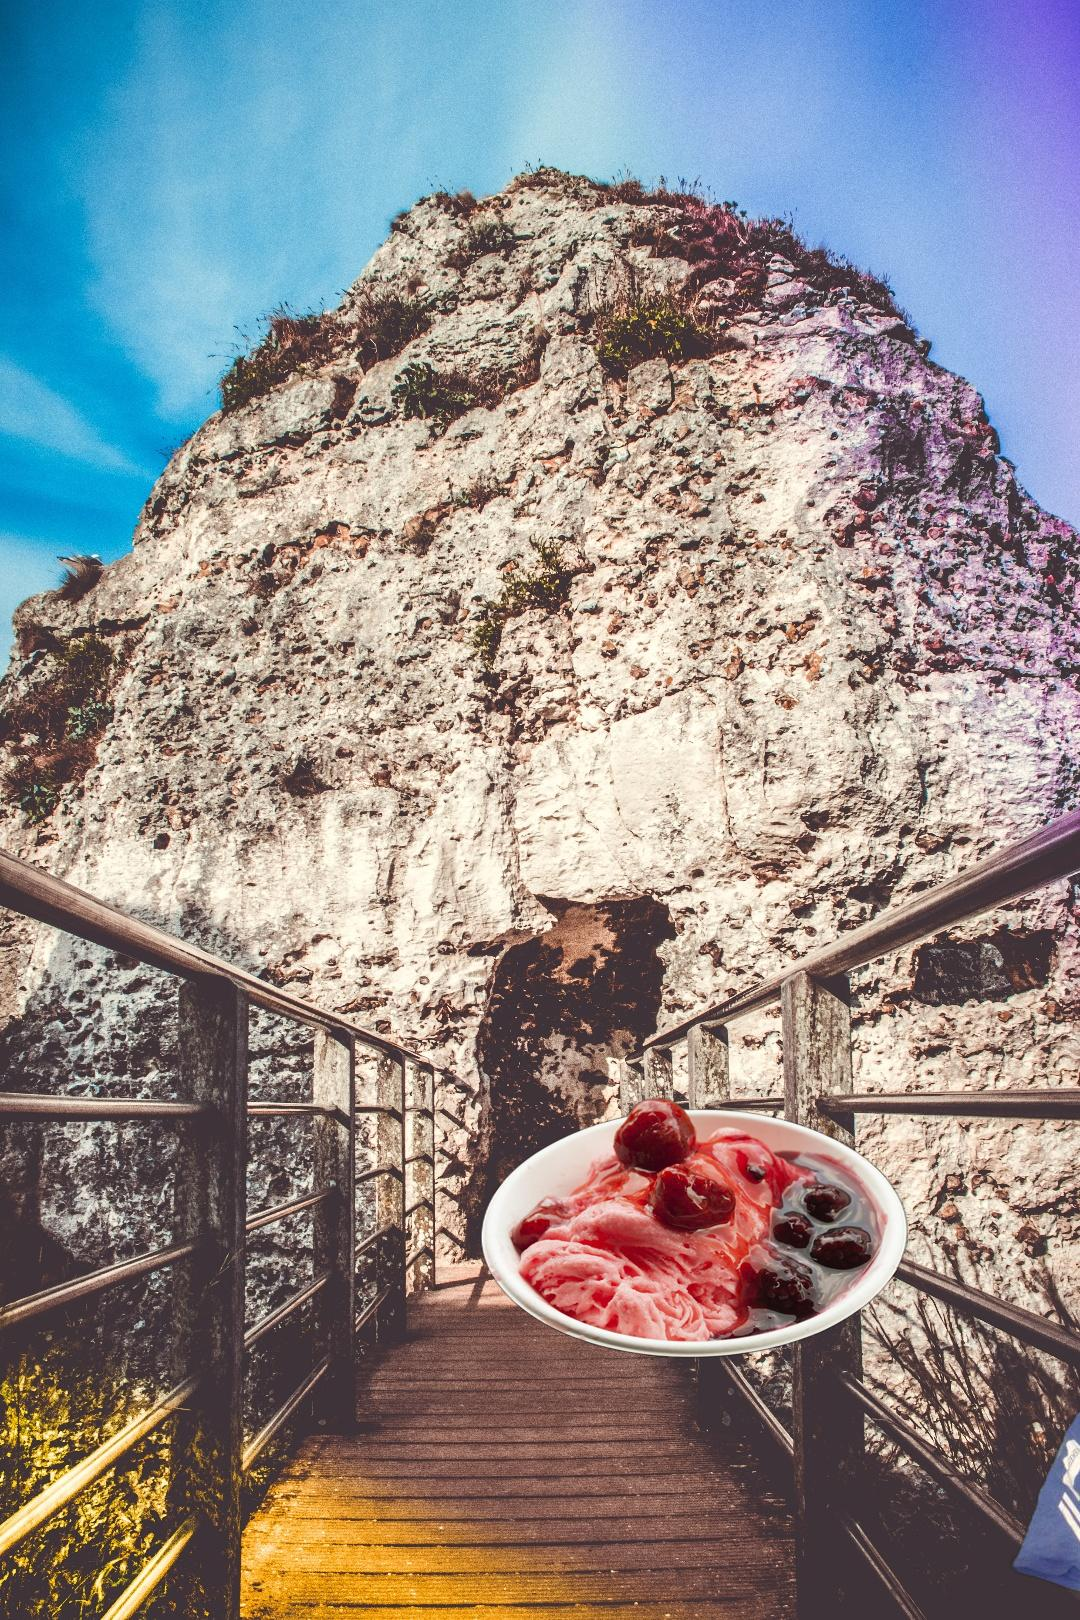biological: (476, 1097, 911, 1361)
clothes: (1006, 1407, 1080, 1620)
